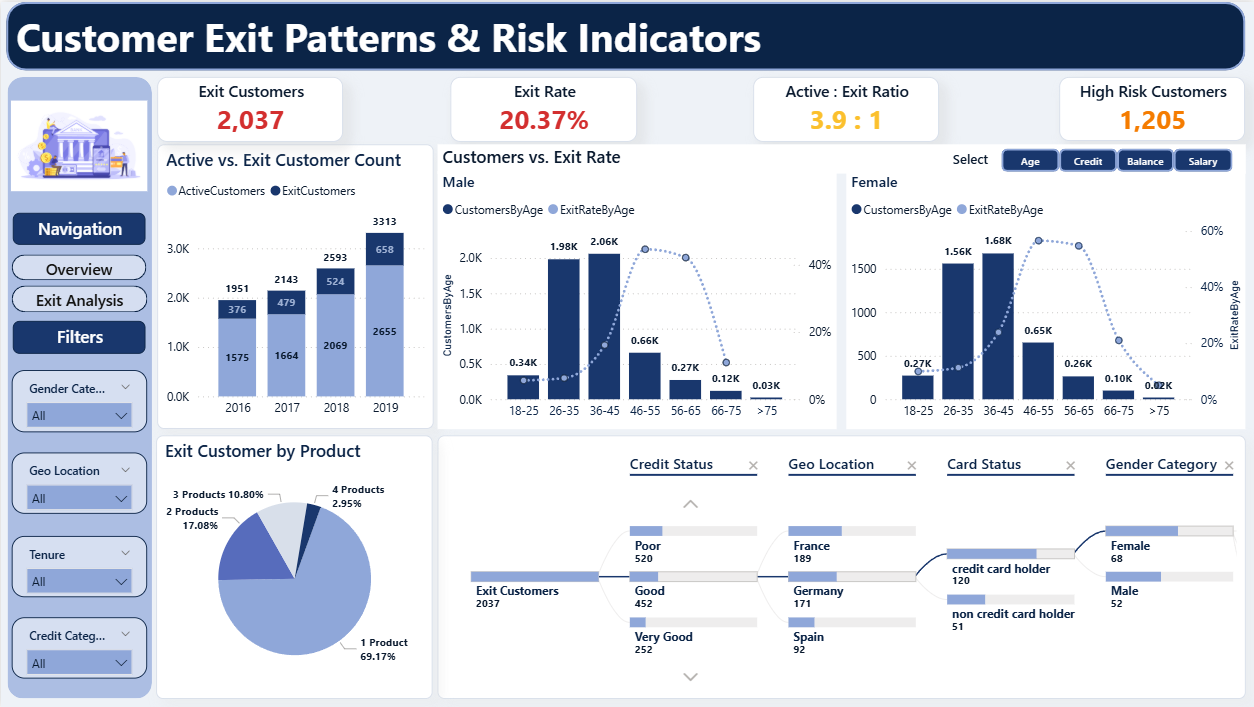

The dashboard page shown, as its layout file describes it:
{"tool":"powerbi","page":{"name":"Exit Analysis","canvas":[1280,720],"ordinal":1},"visuals":[{"type":"shape","box":[5.6,76.7,147.5,634.8],"z":0,"group":"g4"},{"type":"columnChart","title":"Active vs. Exit Customer Count","fields":{"Category":["DateTable.Year","DateTable.MonthName","Gender.GenderCategory"],"Y":["Dax Measures.MonthlyActiveCustomers","Dax Measures.MonthlyExitCount"]},"box":[159,145,282,291],"z":0},{"type":"actionButton","box":[1021.7,149,59.1,23.7],"z":0,"group":"g2"},{"type":"textbox","title":"Customers vs. Exit Rate","box":[446,145,825,30],"z":1000,"group":"g3"},{"type":"decompositionTreeVisual","fields":{"Analyze":["Dax Measures.Lost Customers"],"ExplainBy":["Bank_Churn.CreditCategory","Geography.GeographyLocation","Credit card.CreditCategory","Gender.GenderCategory","Bank_Churn.Age Group"]},"box":[445.7,442.5,824.9,268.8],"z":1000},{"type":"actionButton","box":[1080.8,149,59.1,23.7],"z":2000,"group":"g2"},{"type":"lineClusteredColumnComboChart","title":"Male","fields":{"Y":["Dax Measures.CustomersByAge"],"Y2":["Dax Measures.ChurnRateByAge"],"Category":["Bank_Churn.Age Group"]},"box":[445.7,172.6,407.5,263.3],"z":2000},{"type":"textbox","title":"Navigation","box":[11.1,215.5,135.3,32.8],"z":2000,"group":"g4"},{"type":"actionButton","box":[1198.1,149,60.1,23.7],"z":3000,"group":"g2"},{"type":"lineClusteredColumnComboChart","title":"Female","fields":{"Y":["Dax Measures.CustomersByAge"],"Y2":["Dax Measures.ChurnRateByAge"],"Category":["Bank_Churn.Age Group"]},"box":[863.1,172.6,407.5,263.3],"z":3000},{"type":"actionButton","box":[1139.9,149,58.2,23.7],"z":4000,"group":"g2"},{"type":"actionButton","title":"Total Analysis","box":[10.4,257.7,137.5,26.2],"z":4000,"group":"g4"},{"type":"textbox","title":"Select","box":[967.2,151.7,53.5,21.1],"z":5000,"group":"g2"},{"type":"actionButton","title":"Exit Analysis","box":[10,289.7,138.6,27.3],"z":6000,"group":"g4"},{"type":"slicer","fields":{"Values":["Gender.GenderCategory"]},"box":[10,376.1,138.6,63.4],"z":8000,"group":"g4"},{"type":"donutChart","title":"Exit Customer by Product","fields":{"Category":["Bank_Churn.ProductGroup"],"Y":["Dax Measures.Lost Customers"]},"box":[158.9,442.2,282.2,268.9],"z":10000},{"type":"slicer","fields":{"Values":["Geography.GeographyLocation"]},"box":[10,460.2,138.6,62.3],"z":10000,"group":"g4"},{"type":"card","title":"Exit Customers","fields":{"Values":["Dax Measures.Lost Customers"]},"box":[159,77,190,66],"z":11000},{"type":"card","title":"Active : Exit Ratio","fields":{"Values":["Dax Measures.ActiveExitRatio_Display"]},"box":[768,77,190,66],"z":12000},{"type":"slicer","fields":{"Values":["Bank_Churn.Tenure"]},"box":[10,545.4,138.6,62.3],"z":12000,"group":"g4"},{"type":"card","title":"Exit Rate","fields":{"Values":["Dax Measures.ExitRate"]},"box":[459,77,191,66],"z":13000},{"type":"group","id":"g1","title":"Group 2","box":[1081,77,190,66],"z":14000},{"type":"slicer","fields":{"Values":["Credit card.CreditCategory"]},"box":[10,628.4,138.6,62.3],"z":14000,"group":"g4"},{"type":"group","id":"g2","title":"Group 1","box":[967.2,149,291,23.8],"z":14001,"group":"g3"},{"type":"group","id":"g3","title":"Group 3","box":[446,145,825,30],"z":15000},{"type":"textbox","title":"Filters","box":[11.1,325.8,135.3,33.9],"z":15000,"group":"g4"},{"type":"group","id":"g4","title":"Group 1","box":[5,76.7,148.9,634.8],"z":16000},{"type":"image","box":[5,95.5,148.9,104.4],"z":16001,"group":"g4"},{"type":"shape","title":"Customer Overview & Demographics","box":[6,0,1265,70],"z":17000},{"type":"card","title":"High Risk Customers","fields":{"Values":["Dax Measures.HighRiskExitCount"]},"box":[1081,77,190,65.6],"z":19000,"group":"g1"}]}

Visuals, with their boxes in screenshot pixels (x1, y1, x2, y2), scaled from the page's 1280x720 canvas onto the 1254x707 screenshot:
shape: box=[5, 75, 150, 699]
"Active vs. Exit Customer Count" columnChart: box=[156, 142, 432, 428]
actionButton: box=[1001, 146, 1059, 170]
"Customers vs. Exit Rate" textbox: box=[437, 142, 1245, 172]
decompositionTreeVisual - Dax Measures.Lost Customers x Bank_Churn.CreditCategory: box=[437, 435, 1245, 698]
actionButton: box=[1059, 146, 1117, 170]
"Male" lineClusteredColumnComboChart: box=[437, 169, 836, 428]
"Navigation" textbox: box=[11, 212, 143, 244]
actionButton: box=[1174, 146, 1233, 170]
"Female" lineClusteredColumnComboChart: box=[846, 169, 1245, 428]
actionButton: box=[1117, 146, 1174, 170]
"Total Analysis" actionButton: box=[10, 253, 145, 279]
"Select" textbox: box=[948, 149, 1000, 170]
"Exit Analysis" actionButton: box=[10, 284, 146, 311]
slicer - Gender.GenderCategory: box=[10, 369, 146, 432]
"Exit Customer by Product" donutChart: box=[156, 434, 432, 698]
slicer - Geography.GeographyLocation: box=[10, 452, 146, 513]
"Exit Customers" card: box=[156, 76, 342, 140]
"Active : Exit Ratio" card: box=[752, 76, 939, 140]
slicer - Bank_Churn.Tenure: box=[10, 536, 146, 597]
"Exit Rate" card: box=[450, 76, 637, 140]
"Group 2" group: box=[1059, 76, 1245, 140]
slicer - Credit card.CreditCategory: box=[10, 617, 146, 678]
"Group 1" group: box=[948, 146, 1233, 170]
"Group 3" group: box=[437, 142, 1245, 172]
"Filters" textbox: box=[11, 320, 143, 353]
"Group 1" group: box=[5, 75, 151, 699]
image: box=[5, 94, 151, 196]
"Customer Overview & Demographics" shape: box=[6, 0, 1245, 69]
"High Risk Customers" card: box=[1059, 76, 1245, 140]
